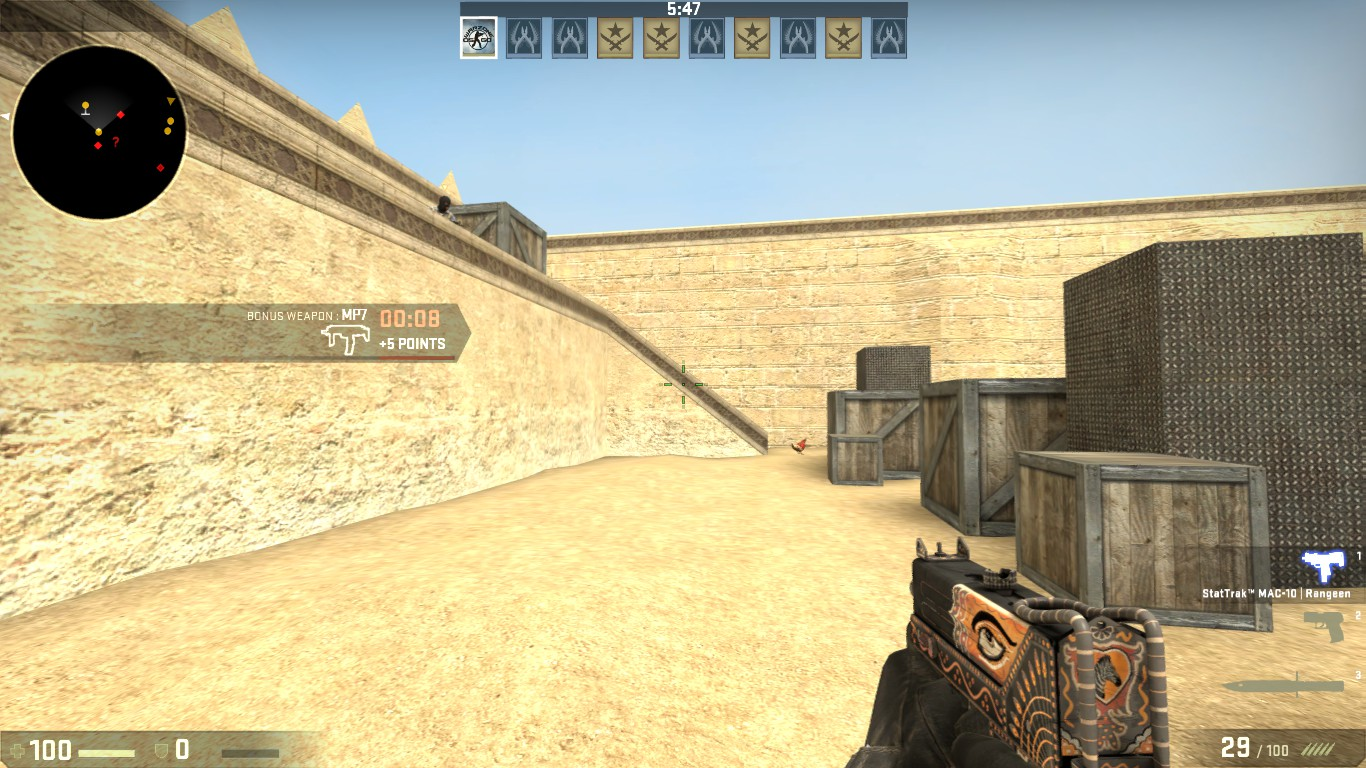th: (431, 193, 457, 216)
